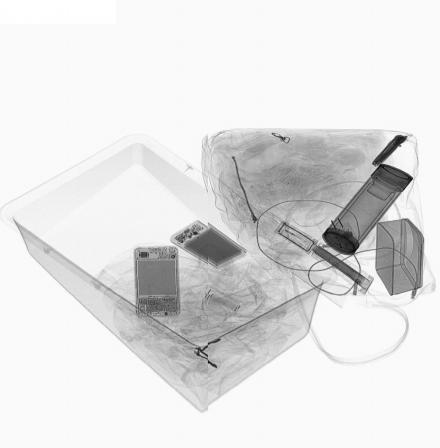Knife: (371, 134, 409, 167)
